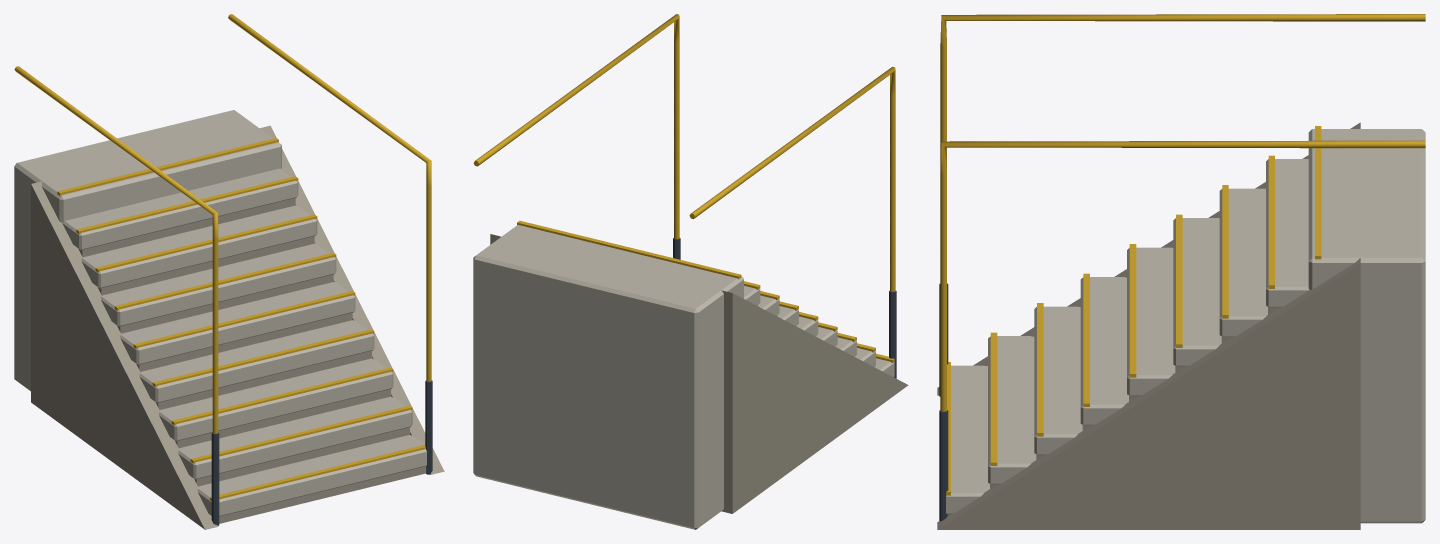
Rendered from stairs_up.fbx.
The picture shows the model from 3 angles, left to right: view 1: azimuth 30°, elevation 25°; view 2: azimuth 150°, elevation 25°; view 3: azimuth 270°, elevation 25°; orthographic projection. The views are drawn at different scales.
Parts seen in each view (by area): view 1: stairs_up; view 2: stairs_up; view 3: stairs_up.
Part boxes in pixels (x1,y1,x2,y2): stairs_up: (14, 14, 444, 529); stairs_up: (473, 14, 908, 529); stairs_up: (937, 14, 1425, 529).
Bounding box in the file's own units: 2.58 × 3.23 × 3.75.
